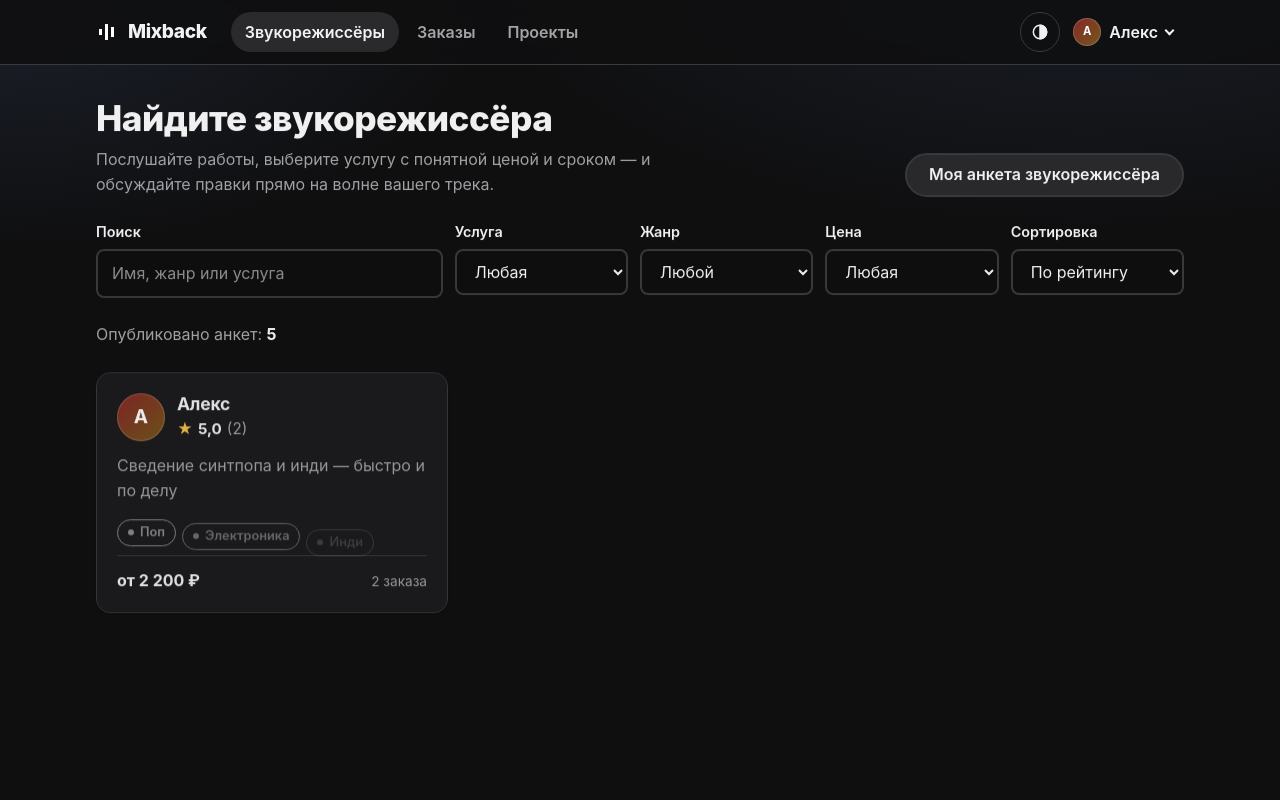
меню аккаунта › клик вне меню закрывает его
The image size is (1280, 800).
Click the button "А Алекс". click: (1126, 32)
box: [1068,13,1184,51]
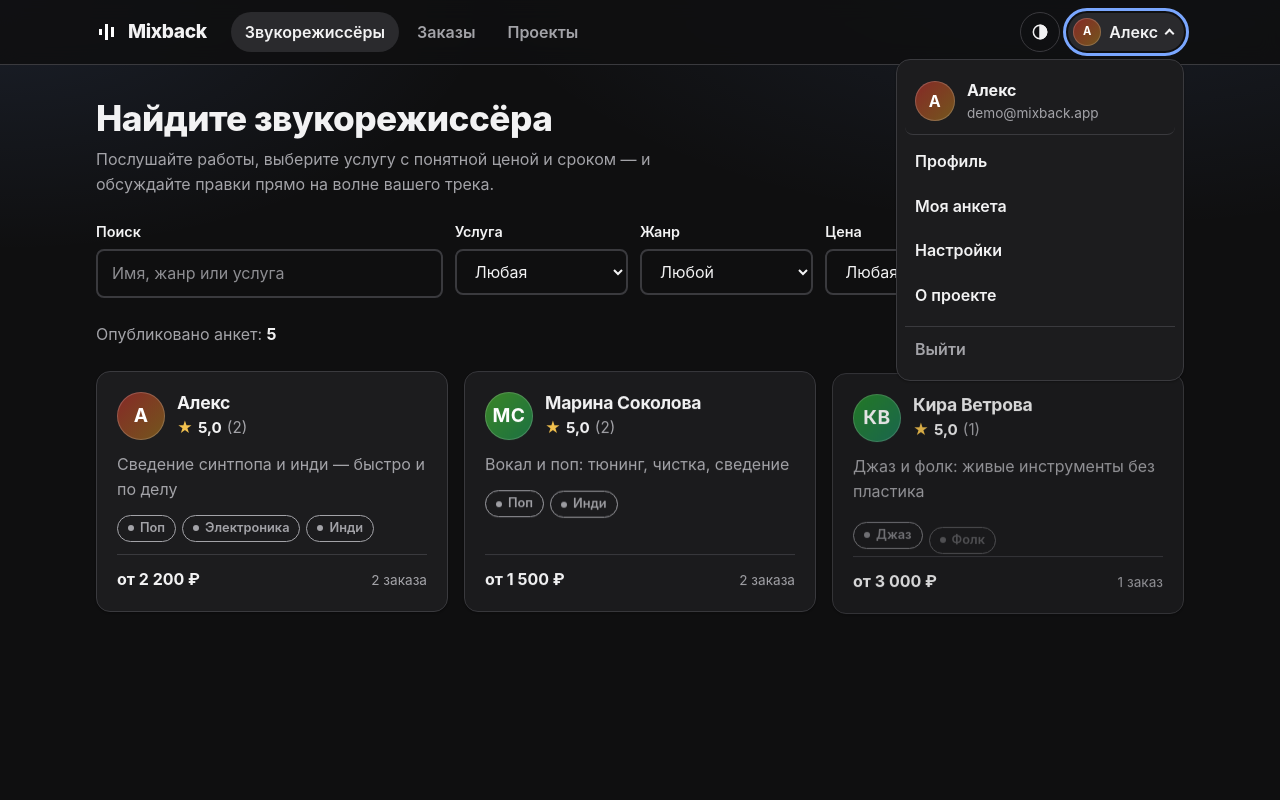
Click the heading "Найдите звукорежиссёра". click: (324, 118)
box: [96,97,552,139]
(page scrolled)
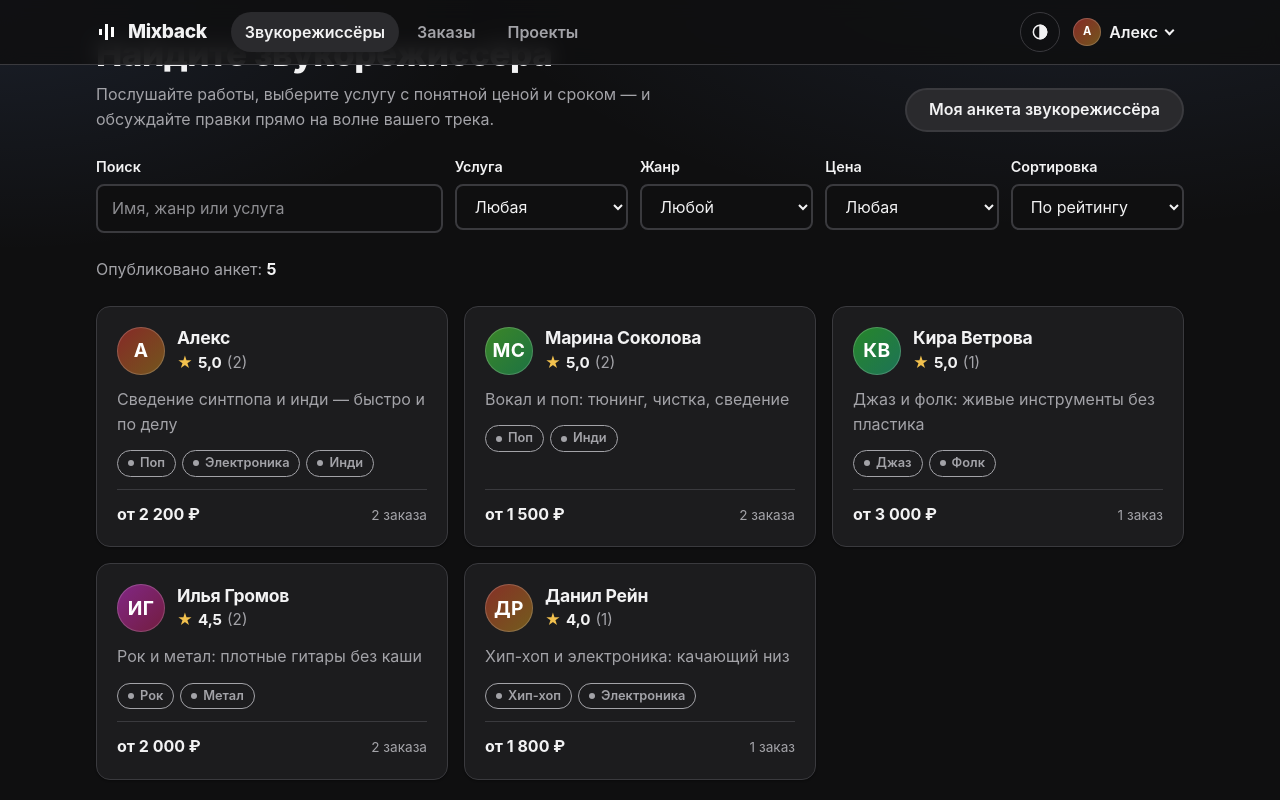
Expected: the button "А Алекс" is collapsed, [1068,13,1184,51]
